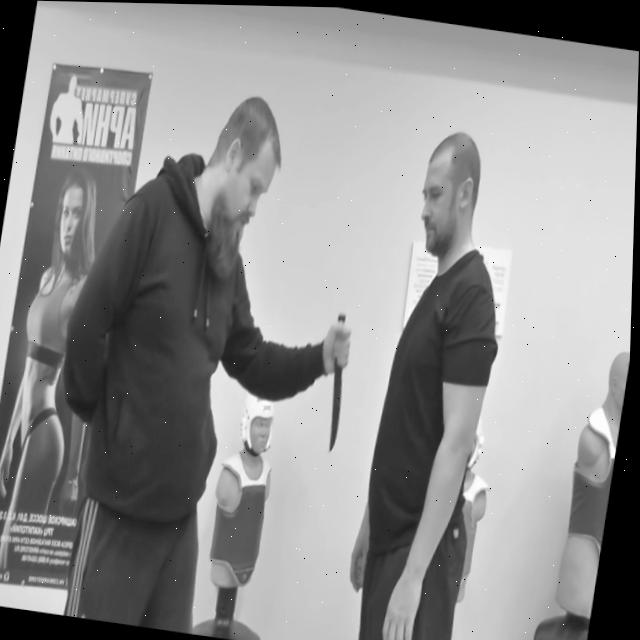knife: (323, 355, 351, 453)
